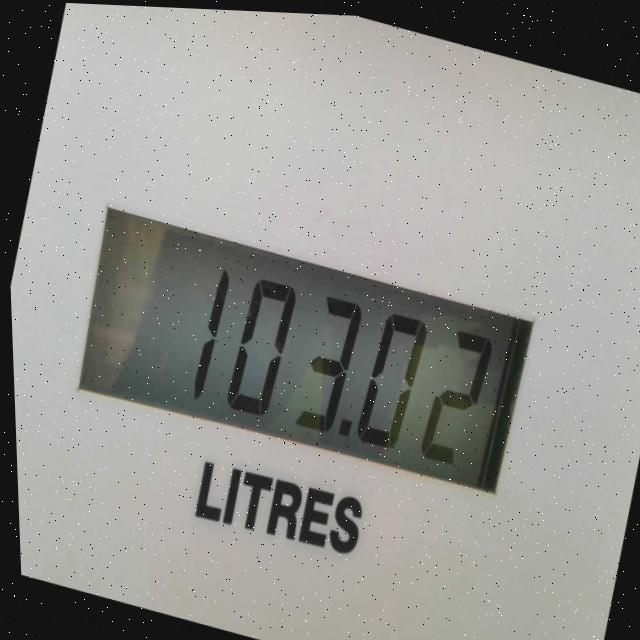.: (327, 408, 357, 448)
0: (216, 266, 308, 423), (345, 299, 436, 452)
1: (172, 249, 247, 407)
2: (407, 313, 500, 475)
3: (283, 284, 367, 441)
